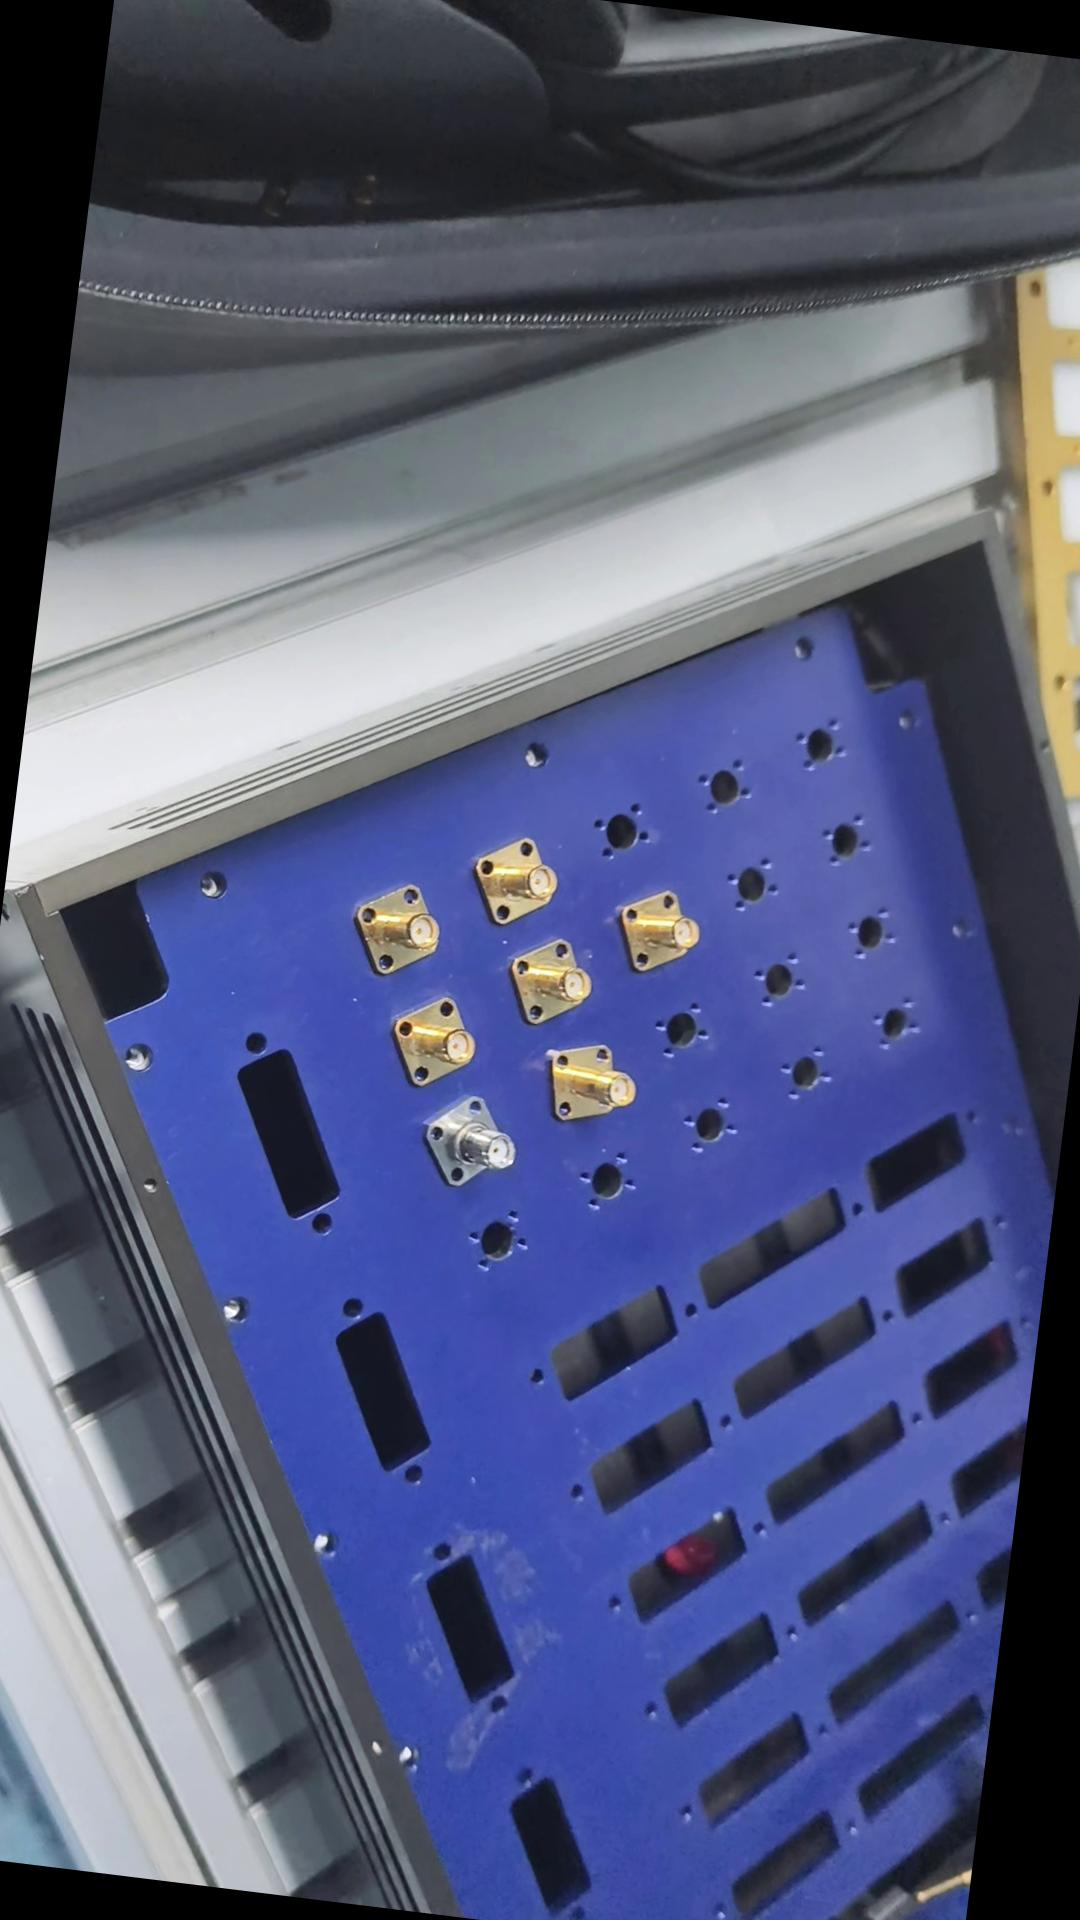SMA: (411, 1083, 526, 1196), (340, 868, 450, 981), (382, 984, 495, 1093), (500, 932, 605, 1035), (471, 829, 568, 928), (611, 884, 708, 982), (541, 1039, 636, 1127)
